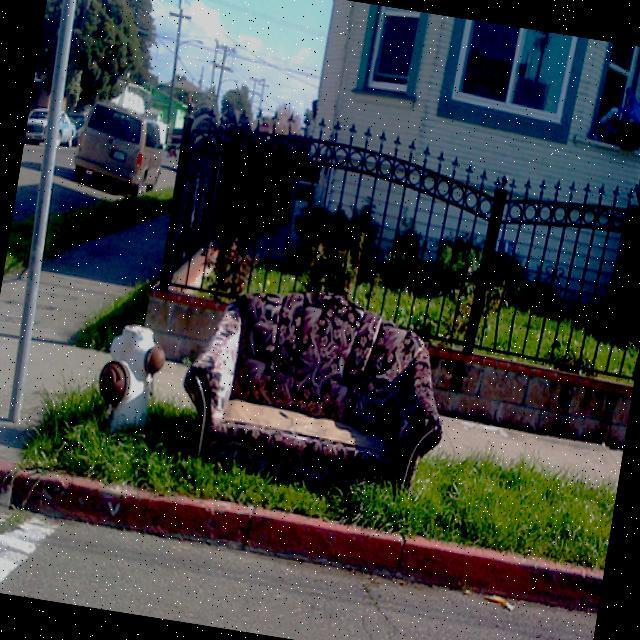fire_hydrant: (86, 314, 172, 436)
